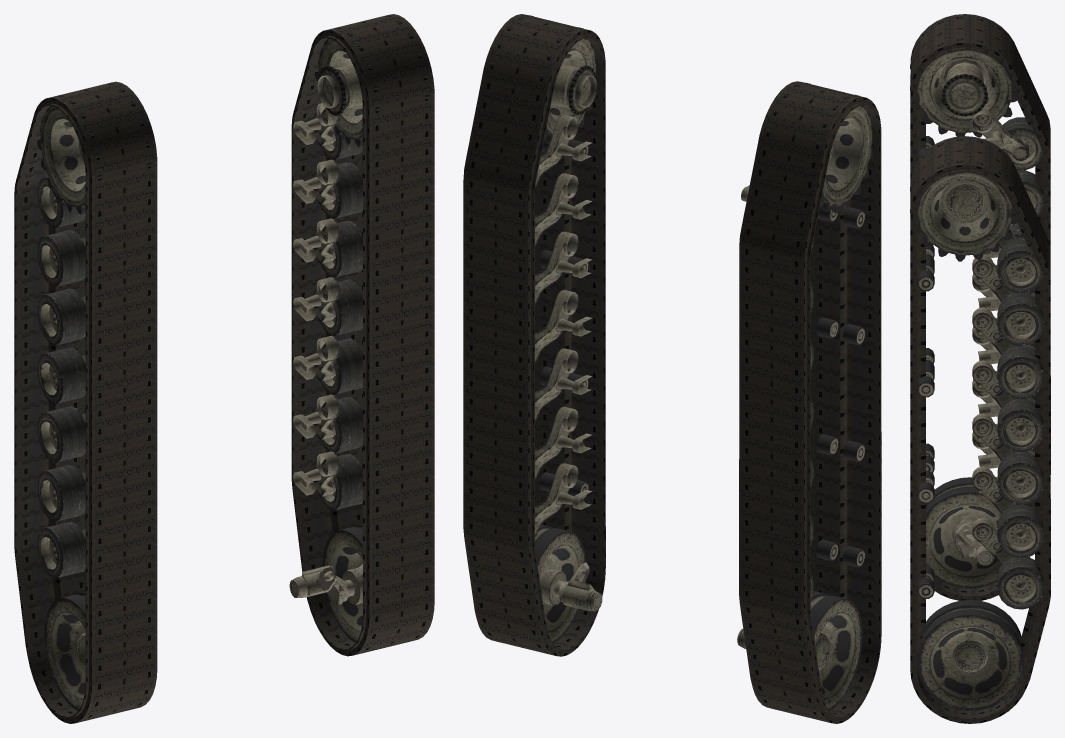
The model's file is Chassis.glb.
The picture shows the model from 3 angles, left to right: view 1: azimuth 30°, elevation 25°; view 2: azimuth 150°, elevation 25°; view 3: azimuth 270°, elevation 25°; orthographic projection. The views are drawn at different scales.
Visible parts, largest first — view 1: set_0_group_0, set_1_group_0, set_3_group_0, set_2_group_0; view 2: set_0_group_0, set_1_group_0, set_3_group_0, set_2_group_0; view 3: set_3_group_0, set_1_group_0, set_2_group_0, set_0_group_0.
Boxes of the visible parts, x1=… form: set_0_group_0: x1=14, y1=81, x2=157, y2=723; set_1_group_0: x1=291, y1=14, x2=434, y2=656; set_3_group_0: x1=289, y1=15, x2=429, y2=642; set_2_group_0: x1=37, y1=83, x2=151, y2=710; set_0_group_0: x1=739, y1=81, x2=881, y2=723; set_1_group_0: x1=463, y1=14, x2=605, y2=656; set_3_group_0: x1=490, y1=15, x2=602, y2=643; set_2_group_0: x1=737, y1=82, x2=872, y2=710; set_3_group_0: x1=910, y1=139, x2=1043, y2=710; set_1_group_0: x1=910, y1=136, x2=1050, y2=723; set_2_group_0: x1=910, y1=16, x2=1043, y2=588; set_0_group_0: x1=910, y1=14, x2=1050, y2=600.
Size of the model in its own units: 2.88 by 4.9 by 1.12.
4 materials, 4 textured.
